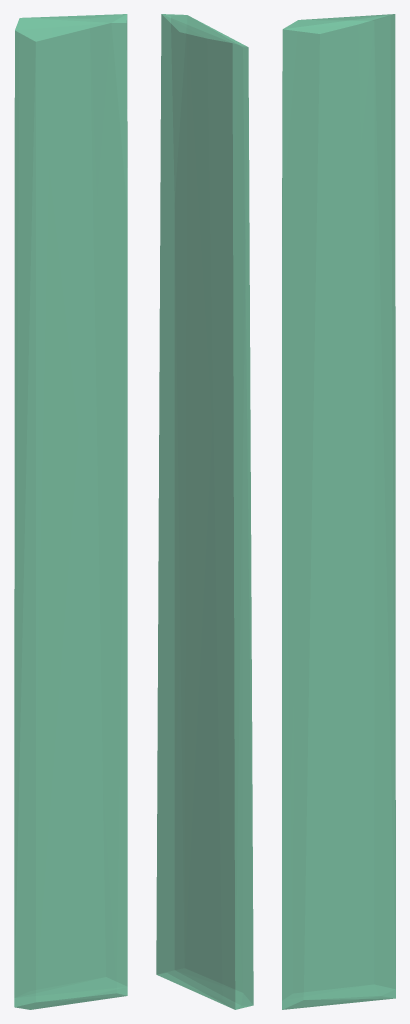
3 views of the same model, side by side, from view 1: azimuth 90°, elevation 25°; view 2: azimuth 210°, elevation 25°; view 3: azimuth 270°, elevation 25° (orthographic).
Visible parts, largest first — view 1: Shape_IndexedFaceSet.032_Shape_IndexedFaceSet.8631; view 2: Shape_IndexedFaceSet.032_Shape_IndexedFaceSet.8631; view 3: Shape_IndexedFaceSet.032_Shape_IndexedFaceSet.8631.
Part boxes in pixels (box(x1,y1,x2,y2)): Shape_IndexedFaceSet.032_Shape_IndexedFaceSet.8631: box(14, 14, 127, 1009); Shape_IndexedFaceSet.032_Shape_IndexedFaceSet.8631: box(156, 14, 253, 1009); Shape_IndexedFaceSet.032_Shape_IndexedFaceSet.8631: box(282, 14, 395, 1009).
Size of the model in its own units: 0.0451 by 1.01 by 0.1052.
